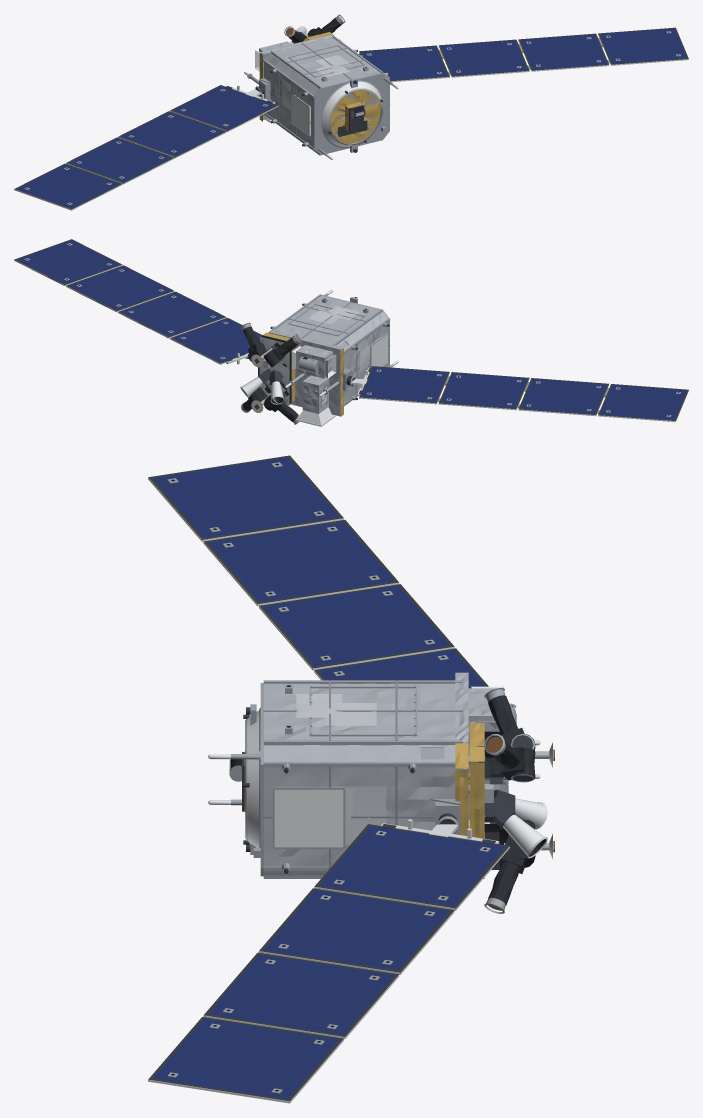
Rendered from timed.glb.
3 views of the same model, one above another, from view 1: azimuth 30°, elevation 25°; view 2: azimuth 150°, elevation 25°; view 3: azimuth 270°, elevation 25° (orthographic). The views are drawn at different scales.
Visible parts, largest first — view 1: solar-panel, body, foil; view 2: solar-panel, body, foil; view 3: solar-panel, body, foil.
Part boxes in pixels (x1,y1,x2,y2): solar-panel: [17, 28, 686, 208]; body: [14, 14, 688, 210]; foil: [259, 17, 390, 151]; solar-panel: [17, 240, 686, 419]; body: [14, 239, 688, 426]; foil: [243, 295, 390, 421]; solar-panel: [153, 457, 504, 1098]; body: [148, 455, 554, 1103]; foil: [244, 672, 549, 905].
Size of the model in its own units: 12.12 by 1.57 by 3.23.
